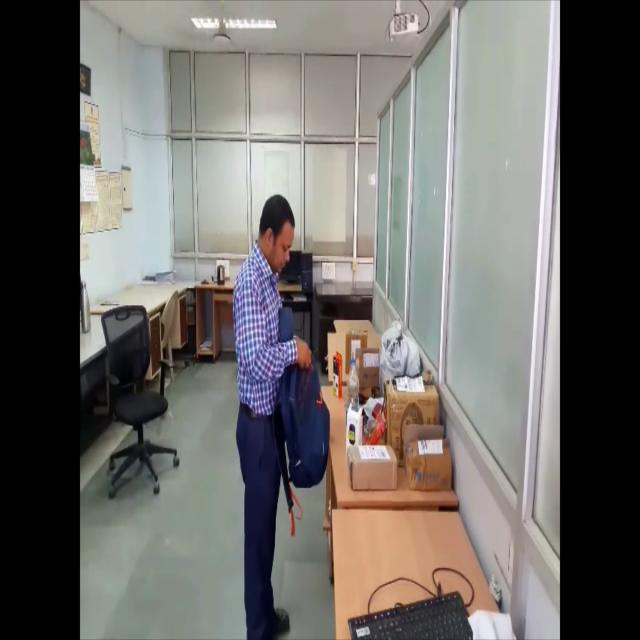shoplifting: (227, 189, 332, 639)
